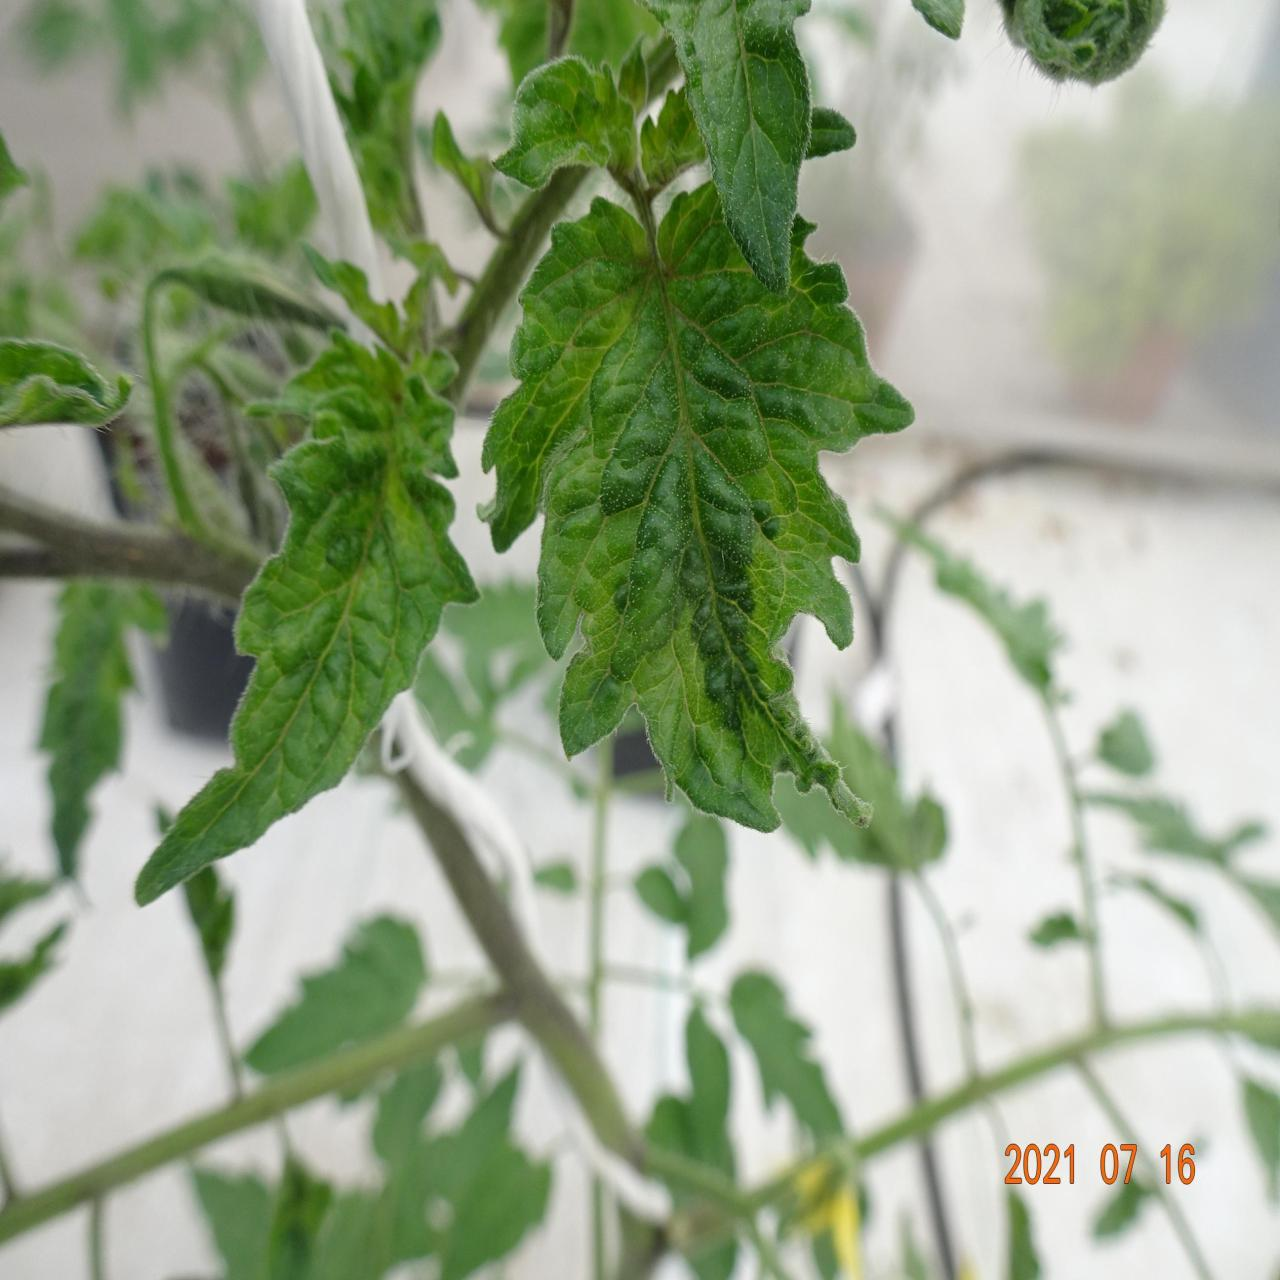T_L_R: (484, 181, 913, 830), (135, 332, 476, 904), (649, 1, 813, 294), (496, 54, 636, 186), (1002, 1, 1167, 84), (1, 338, 132, 427)
